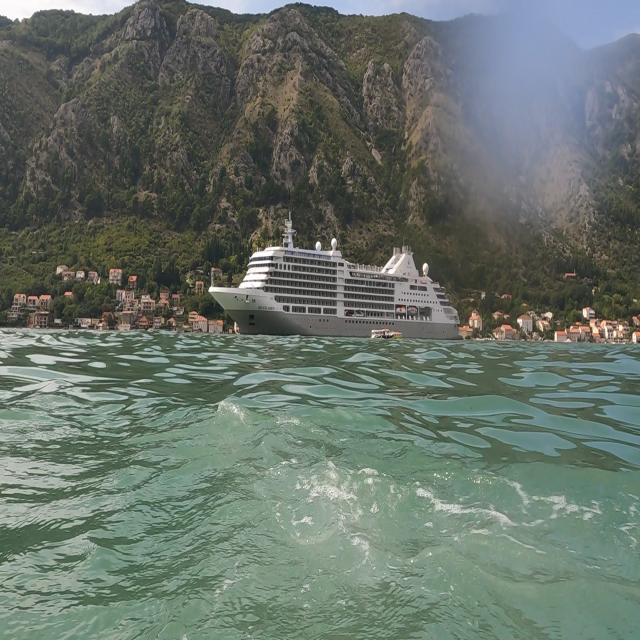boat: (206, 206, 464, 343)
